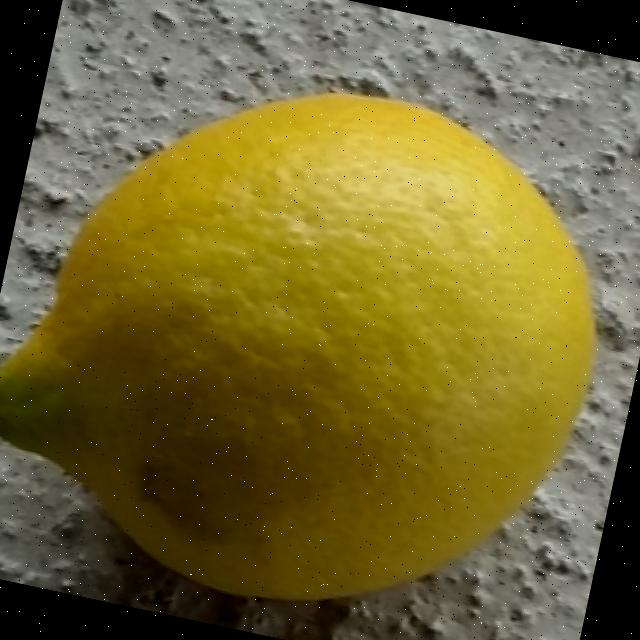Lemon: (0, 22, 635, 640)
